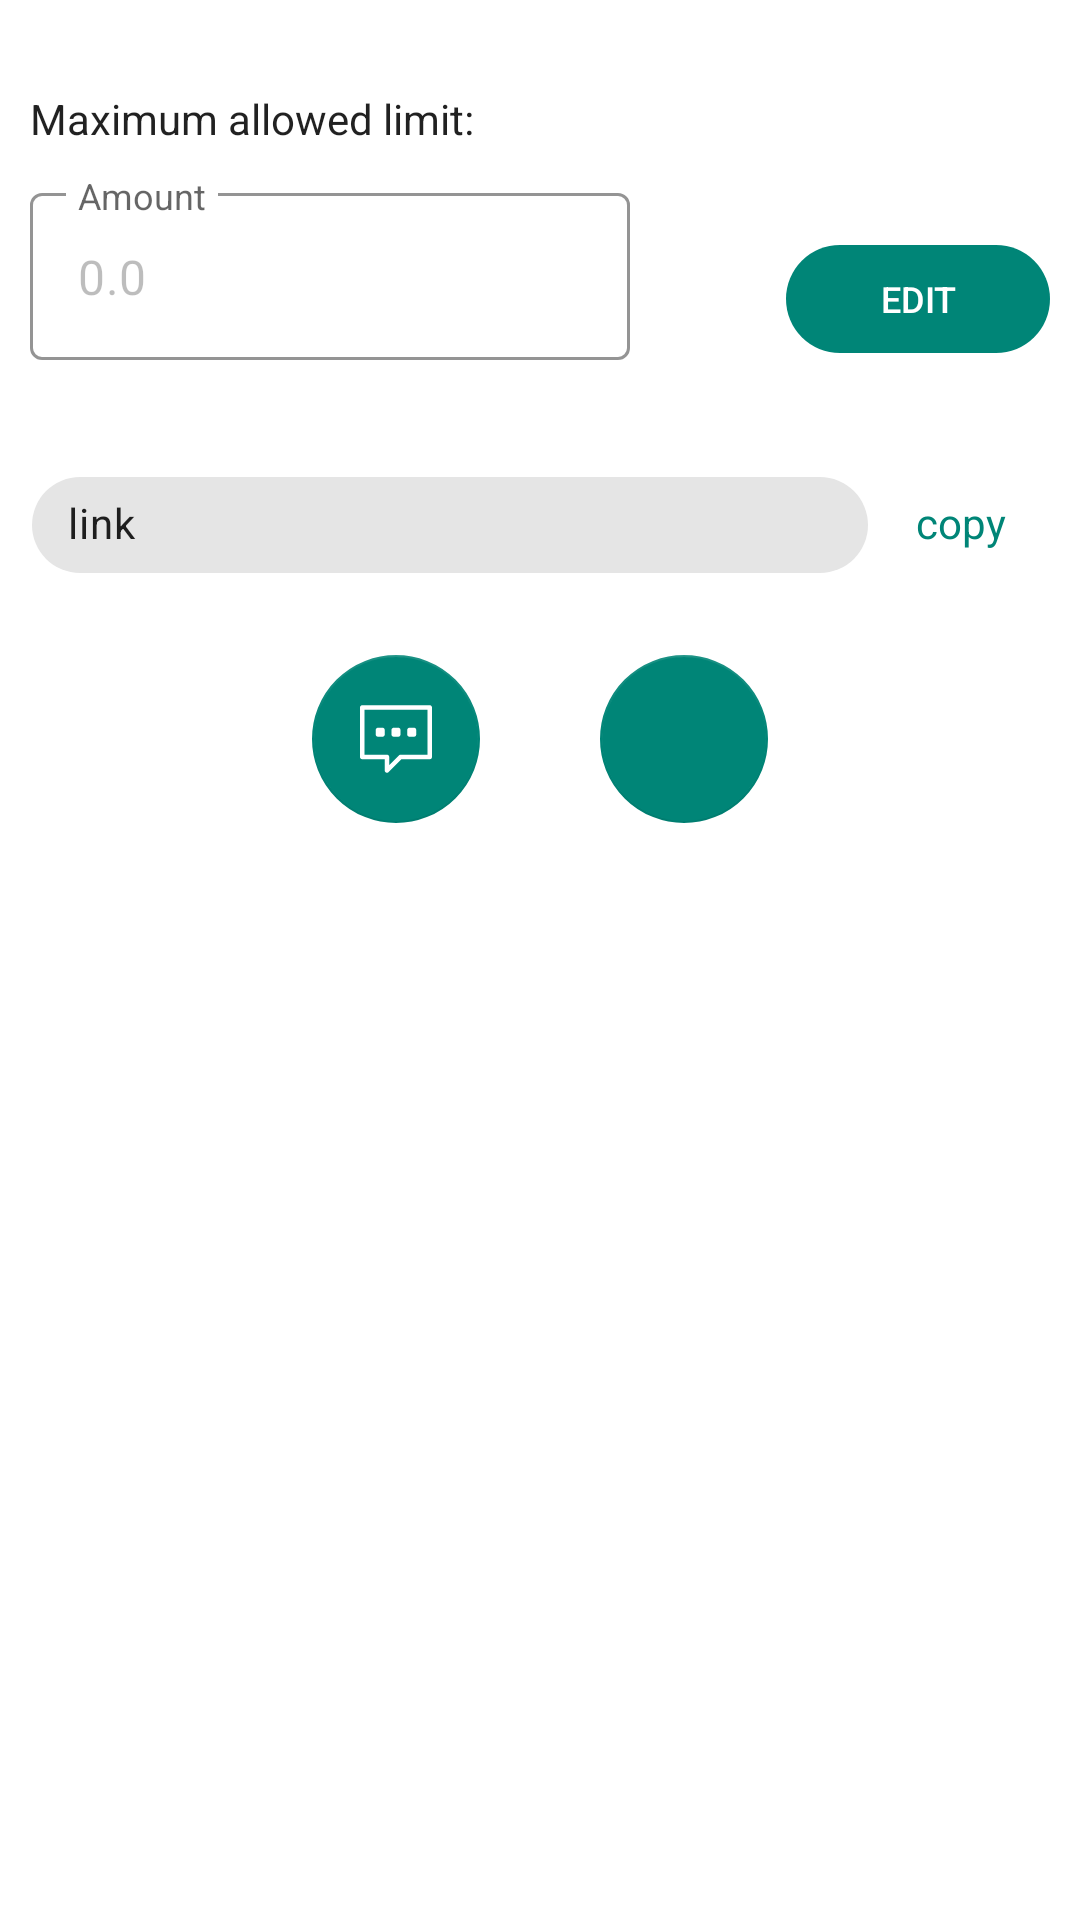

Point at icon controls on the screen. Image size 1080×1920, points as [x,y].
speech bubble: [396,739]
